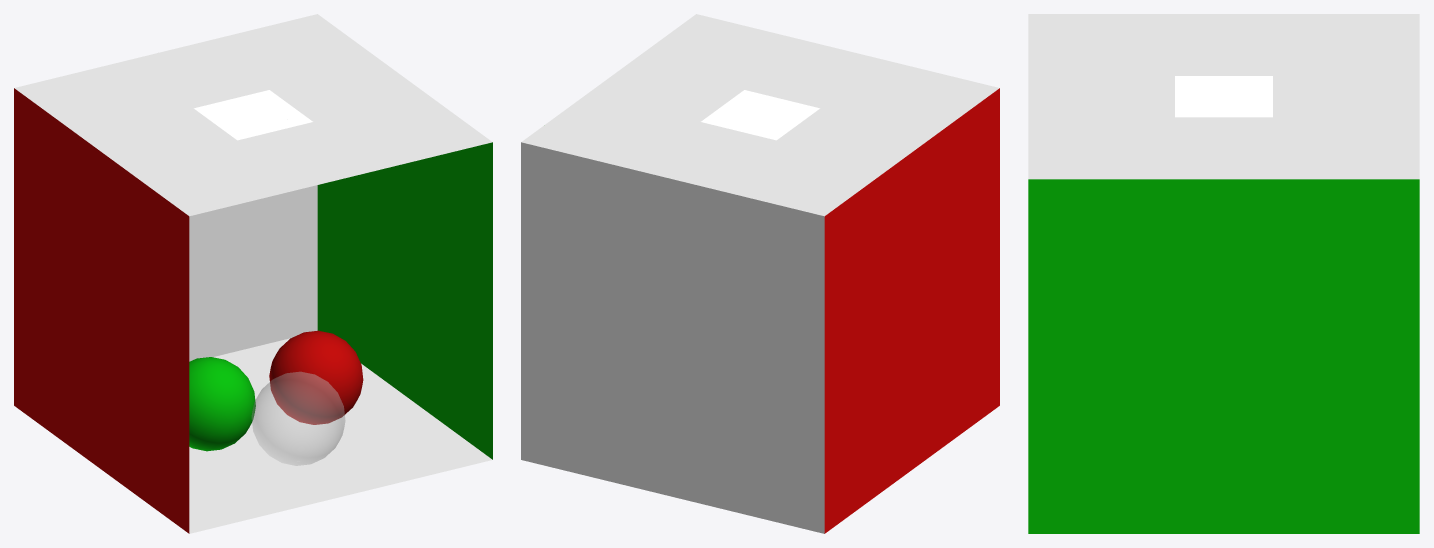
The model's file is cornellBox.glb.
The picture shows the model from 3 angles, left to right: view 1: azimuth 30°, elevation 25°; view 2: azimuth 150°, elevation 25°; view 3: azimuth 270°, elevation 25°; orthographic projection. The views are drawn at different scales.
Visible parts, largest first — view 1: Mesh_1, Mesh_3, Mesh_2, Mesh_0, Mesh_4, Icosphere.002, Icosphere, Icosphere.001, light; view 2: Mesh_4, Mesh_1, Mesh_3, light; view 3: Mesh_2, Mesh_3, light.
Part boxes in pixels (x1=…): Mesh_1: x1=14, y1=88, x2=189, y2=533; Mesh_3: x1=14, y1=14, x2=492, y2=216; Mesh_2: x1=317, y1=142, x2=492, y2=459; Mesh_0: x1=189, y1=338, x2=492, y2=533; Mesh_4: x1=189, y1=185, x2=317, y2=361; Icosphere.002: x1=269, y1=330, x2=363, y2=424; Icosphere: x1=252, y1=372, x2=345, y2=465; Icosphere.001: x1=189, y1=357, x2=255, y2=451; light: x1=194, y1=90, x2=312, y2=140; Mesh_4: x1=521, y1=142, x2=824, y2=533; Mesh_1: x1=824, y1=88, x2=999, y2=533; Mesh_3: x1=521, y1=14, x2=999, y2=216; light: x1=701, y1=90, x2=819, y2=140; Mesh_2: x1=1028, y1=179, x2=1419, y2=533; Mesh_3: x1=1028, y1=14, x2=1419, y2=179; light: x1=1175, y1=76, x2=1272, y2=117.
Size of the model in its own units: 0.4 by 0.4268 by 0.4.
